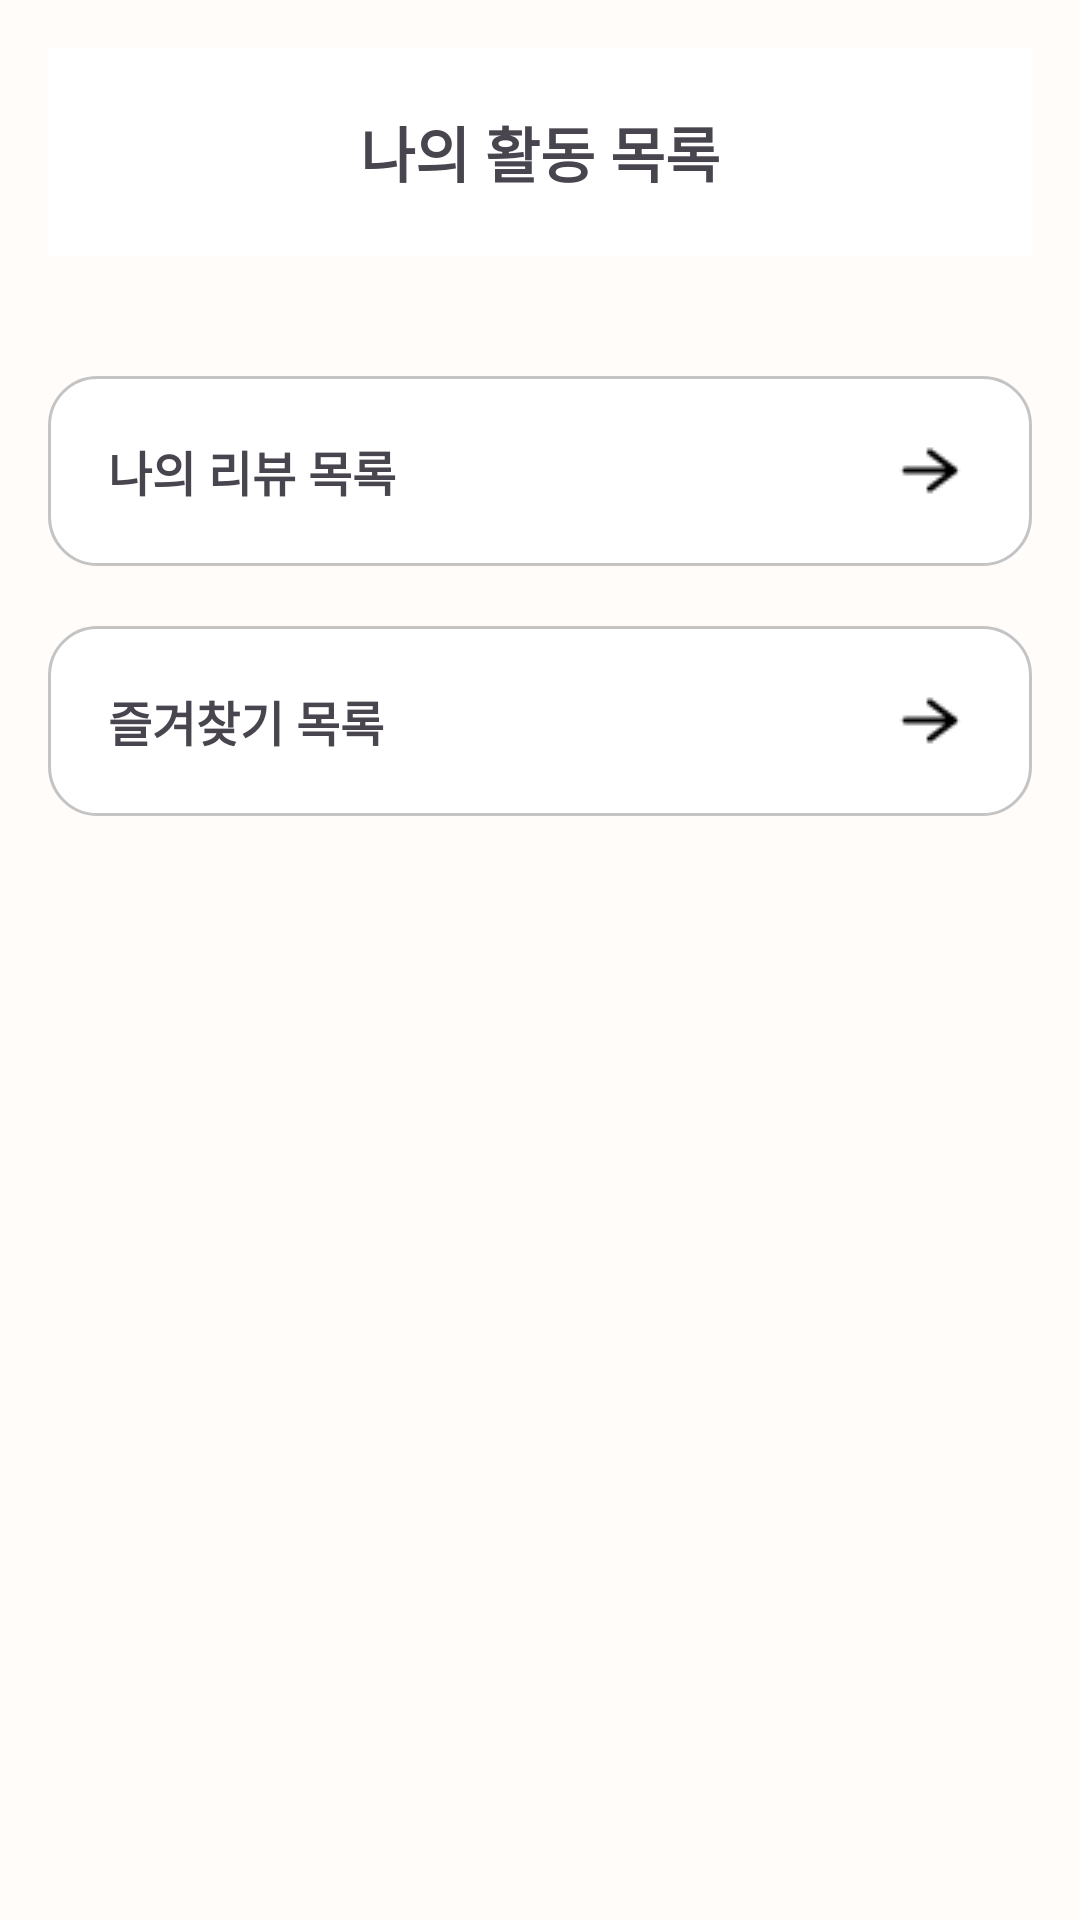

Icon click points for this 1080w x 1920h phone screenshot, format (x=x, y=y):
arrow right: (x=930, y=470), (x=930, y=720)
